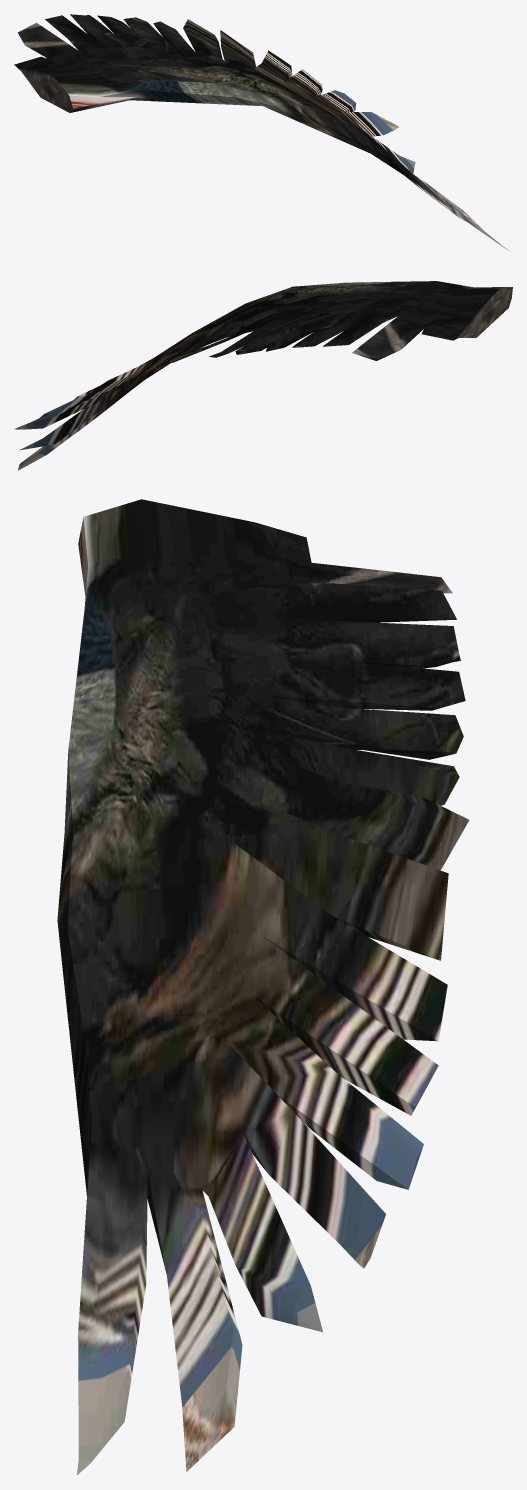
Rendered from mdl_franch_flyingcondor_wing.gltf.
3 renders of one model, top to bottom at view 1: azimuth 30°, elevation 25°; view 2: azimuth 150°, elevation 25°; view 3: azimuth 270°, elevation 25°, orthographic. The views are drawn at different scales.
Visible parts, largest first — view 1: condor001_Material #95_0.001; view 2: condor001_Material #95_0.001; view 3: condor001_Material #95_0.001.
Boxes of the visible parts, x1,y1,x2,y2 form: condor001_Material #95_0.001: [14, 14, 510, 251]; condor001_Material #95_0.001: [14, 281, 512, 470]; condor001_Material #95_0.001: [57, 499, 469, 1474].
Size of the model in its own units: 72.83 by 42.71 by 29.33.
Materials: 1 (1 with a texture image).
